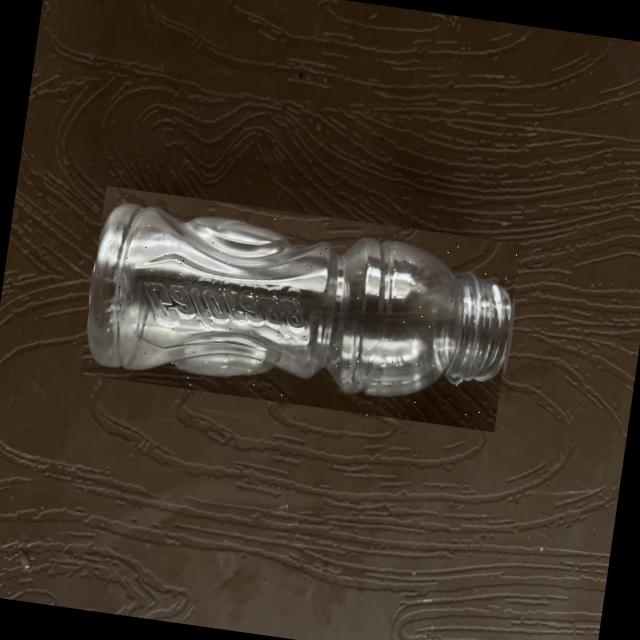PET_ClearBottle: (79, 186, 522, 435)
